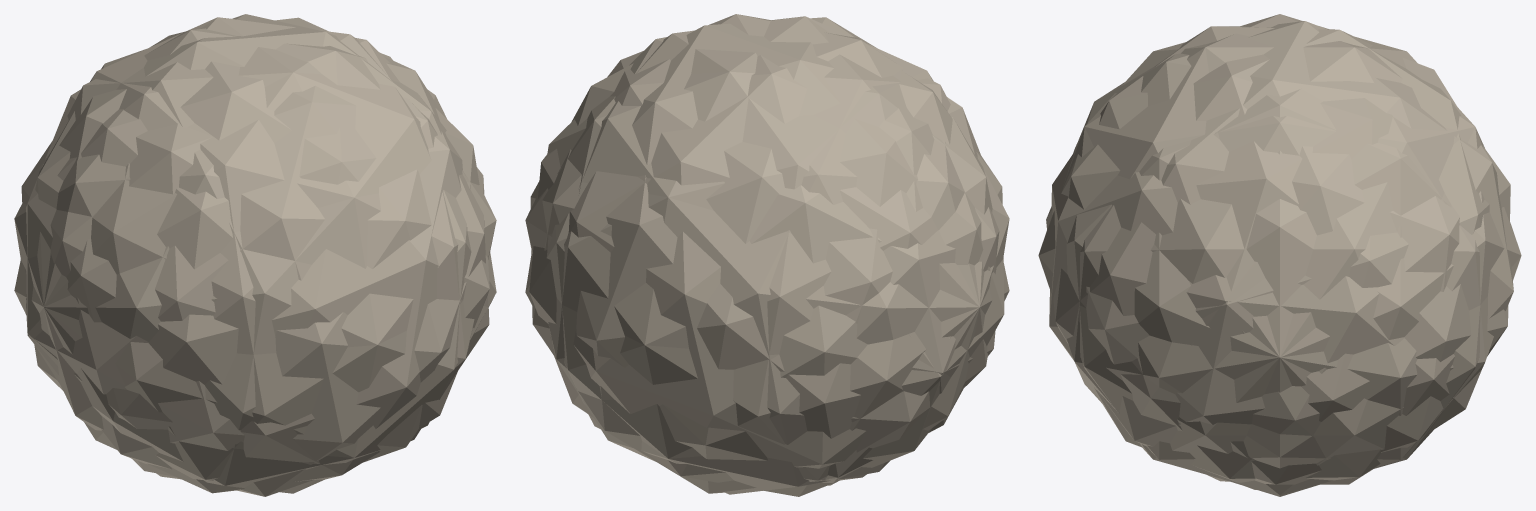
The model's file is Planet3_MESH.fbx.
The picture shows the model from 3 angles, left to right: view 1: azimuth 30°, elevation 25°; view 2: azimuth 150°, elevation 25°; view 3: azimuth 270°, elevation 25°; orthographic projection.
Parts seen in each view (by area): view 1: SurfaceTwo.001; view 2: SurfaceTwo.001; view 3: SurfaceTwo.001.
Part boxes in pixels (x1,y1,x2,y2): SurfaceTwo.001: (14,14,496,496); SurfaceTwo.001: (525,14,1009,496); SurfaceTwo.001: (1038,14,1521,496).
Size of the model in its own units: 2 by 1.94 by 2.
